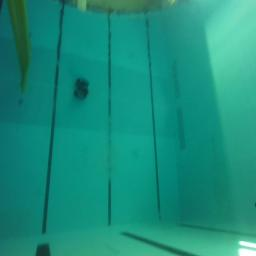Full: (74, 85, 88, 101)
